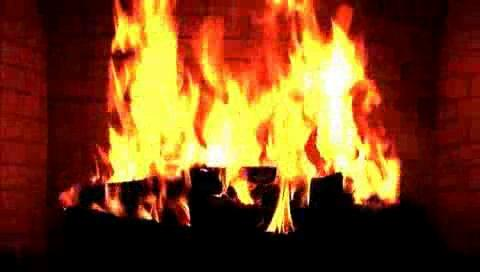fire: (103, 7, 394, 229)
